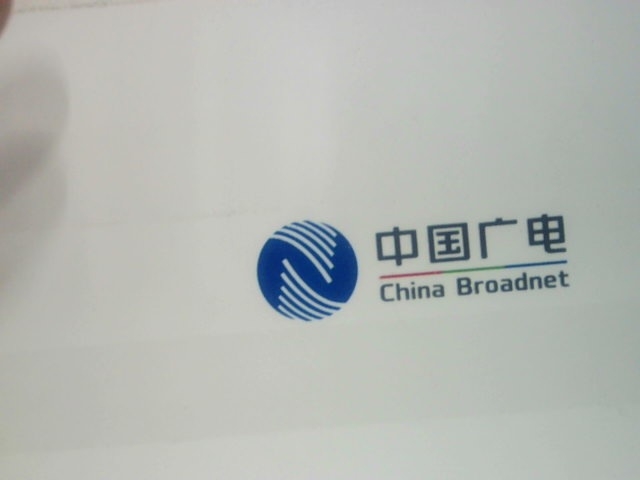AW_ChinaBroadNet: (248, 206, 576, 321)
